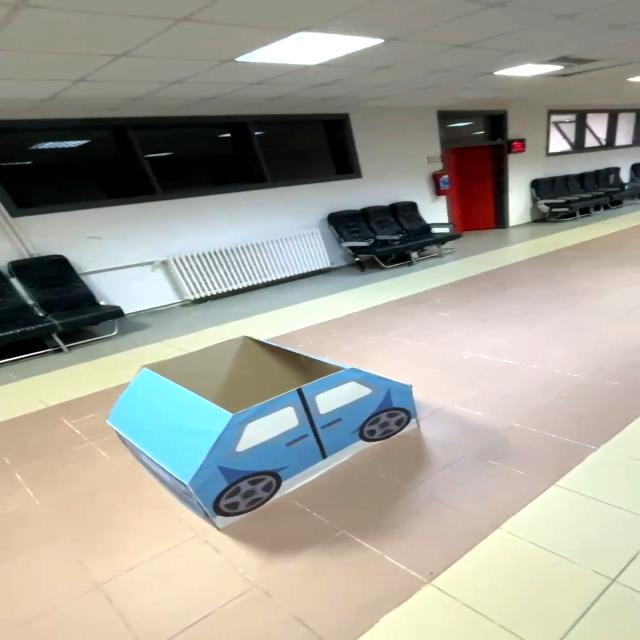blue_car: (81, 315, 469, 540)
